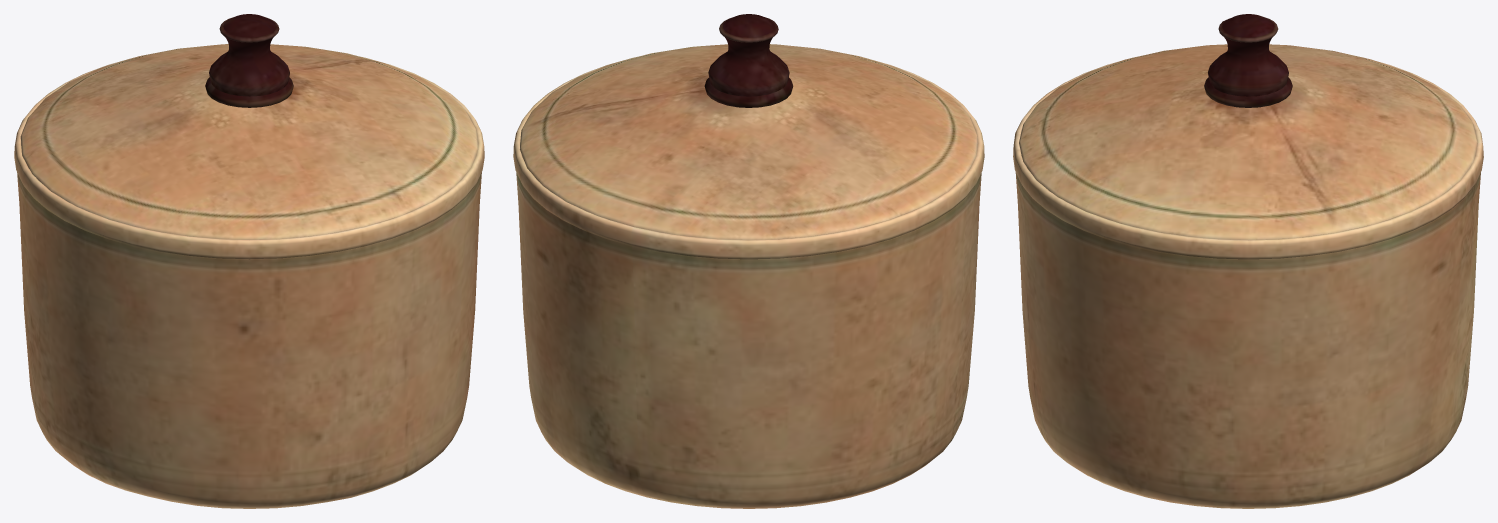
File: brass_pot_01.glb
3 views of the same model, side by side, from view 1: azimuth 30°, elevation 25°; view 2: azimuth 150°, elevation 25°; view 3: azimuth 270°, elevation 25° (orthographic).
Parts seen in each view (by area): view 1: brass_pot_01; view 2: brass_pot_01; view 3: brass_pot_01.
Boxes of the visible parts, x1,y1,x2,y2 form: brass_pot_01: [14, 14, 484, 508]; brass_pot_01: [513, 14, 984, 508]; brass_pot_01: [1013, 14, 1483, 508].
Bounding box in the file's own units: 0.3019 × 0.291 × 0.3017.
Materials: 1 (1 with a texture image).
